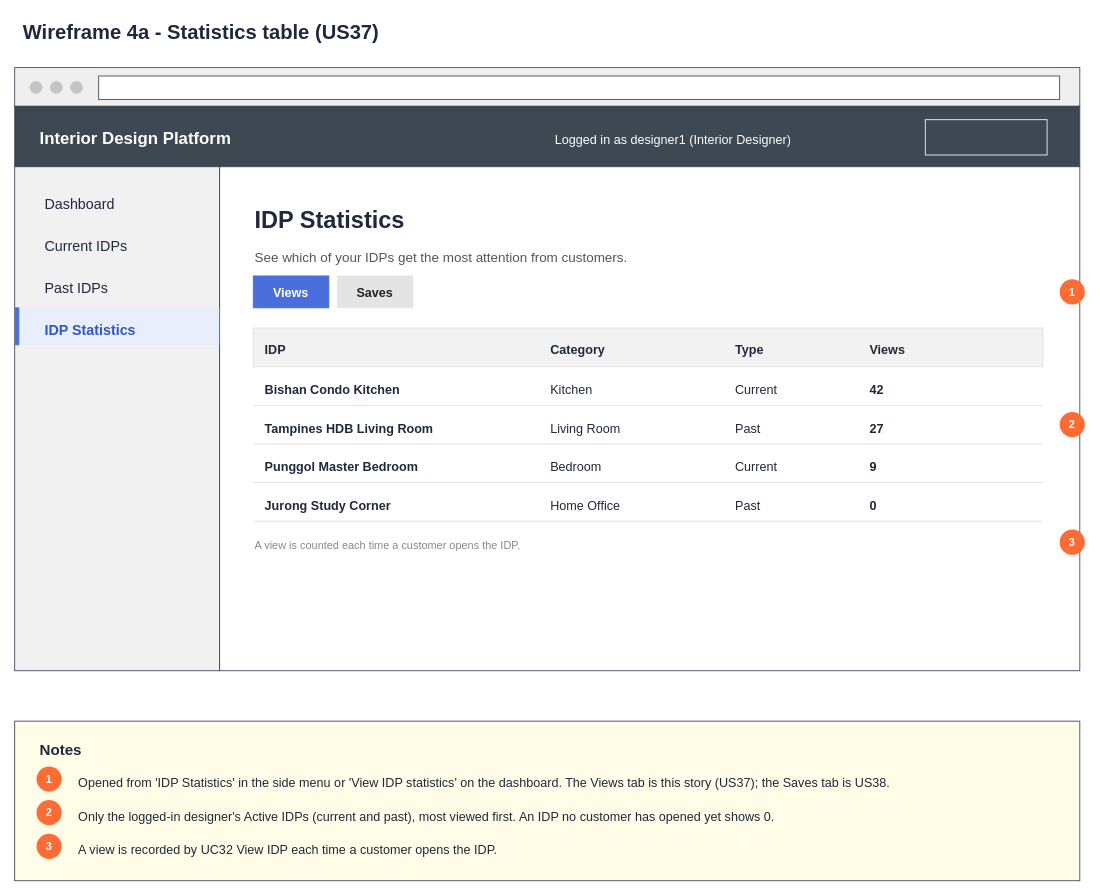
Some shapes in this 1100 by 895 pixel diagram are drawn without their labels. Here are the shapes that lost their labels. From the top down, the centre of each, then its label:
At point (579, 87): "localhost:5000/designer/idps/statistics/views".
At point (985, 137): "Log out".
